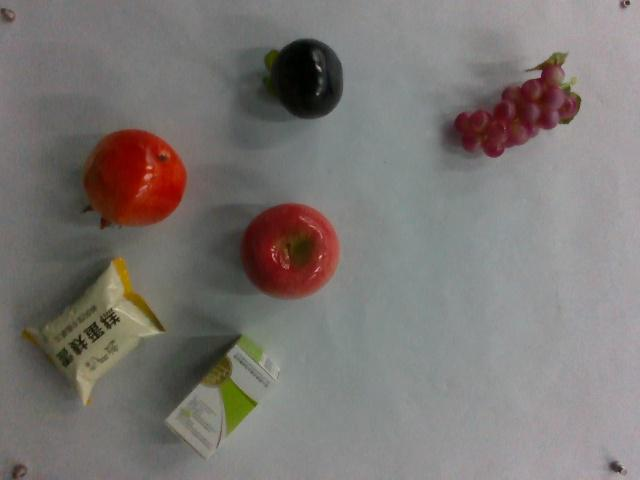apple: (243, 201, 337, 302)
carton: (166, 335, 280, 463)
dessert: (26, 265, 166, 405)
grape: (451, 53, 580, 165)
mangosteen: (79, 129, 189, 233), (263, 36, 345, 119)
